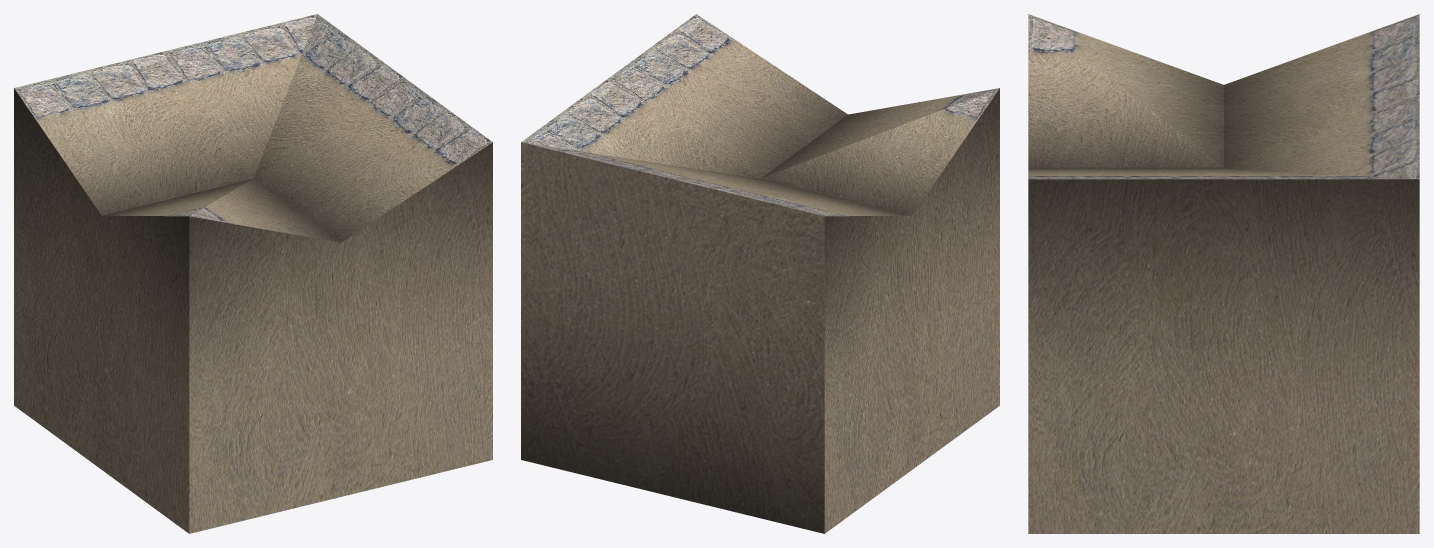
File: BlockInclinedCorner.fbx
The picture shows the model from 3 angles, left to right: view 1: azimuth 30°, elevation 25°; view 2: azimuth 150°, elevation 25°; view 3: azimuth 270°, elevation 25°; orthographic projection. The views are drawn at different scales.
Visible parts, largest first — view 1: blockInclinedCorner; view 2: blockInclinedCorner; view 3: blockInclinedCorner.
Boxes of the visible parts, <box> form: blockInclinedCorner: <box>14,14,492,533</box>; blockInclinedCorner: <box>521,14,999,533</box>; blockInclinedCorner: <box>1028,14,1419,533</box>.
Bounding box in the file's own units: 100 × 100 × 100.
